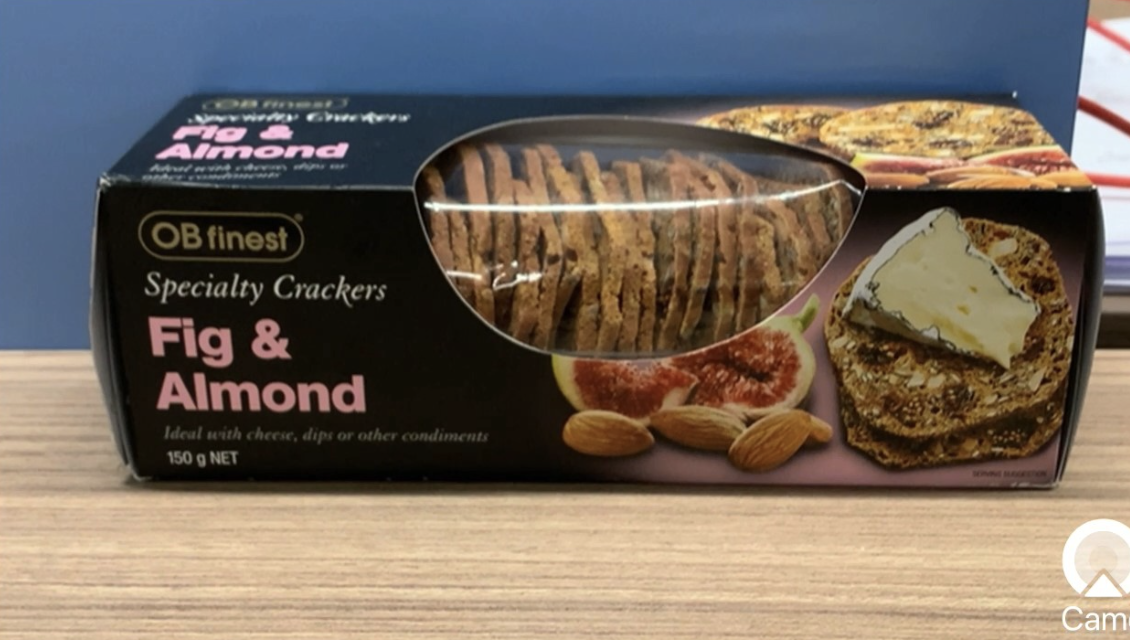crackers_100g-199g: (131, 197, 1058, 484)
